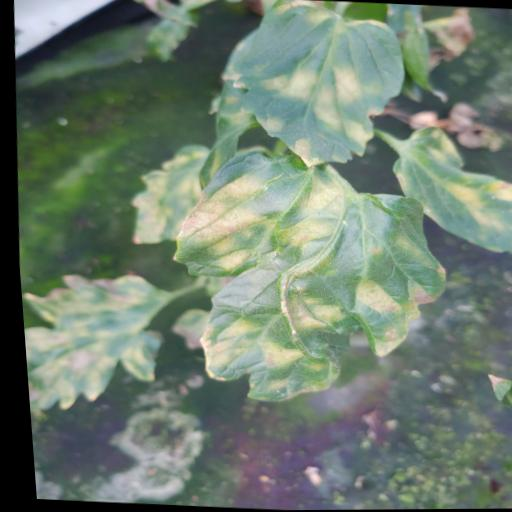Leaf Mold: (154, 142, 457, 412), (210, 0, 413, 174), (16, 268, 170, 418), (381, 124, 512, 256), (119, 141, 215, 248)
